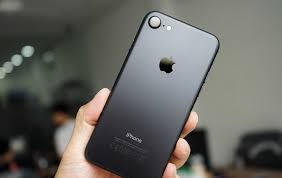iphone: (83, 5, 220, 178)
